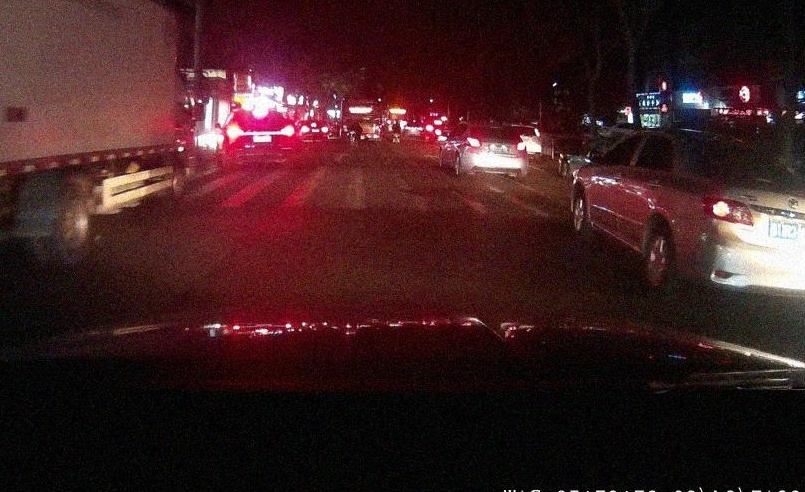L_light: (226, 127, 243, 137), (466, 137, 481, 147)
R_light: (280, 126, 294, 136), (516, 142, 526, 151)
T_light: (253, 111, 268, 117), (487, 127, 498, 131)
night-left: (225, 110, 295, 167)
night-no: (465, 122, 528, 181)
